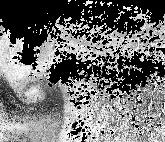CE: (16, 75, 58, 110)
